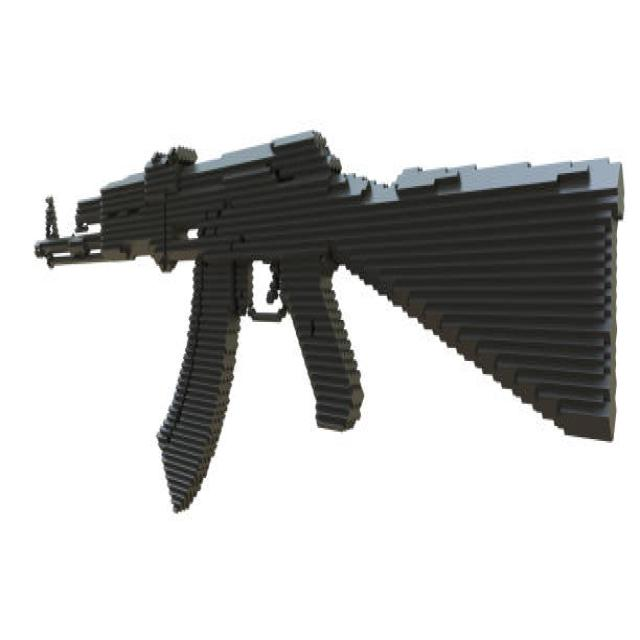rifle: (28, 108, 633, 521)
